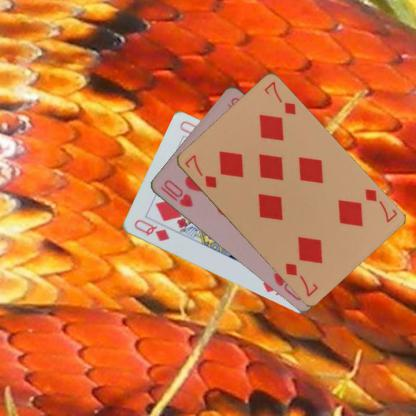10h: (157, 176, 194, 209)
7d: (182, 152, 219, 189), (362, 186, 398, 224)
Qd: (131, 216, 171, 242)
